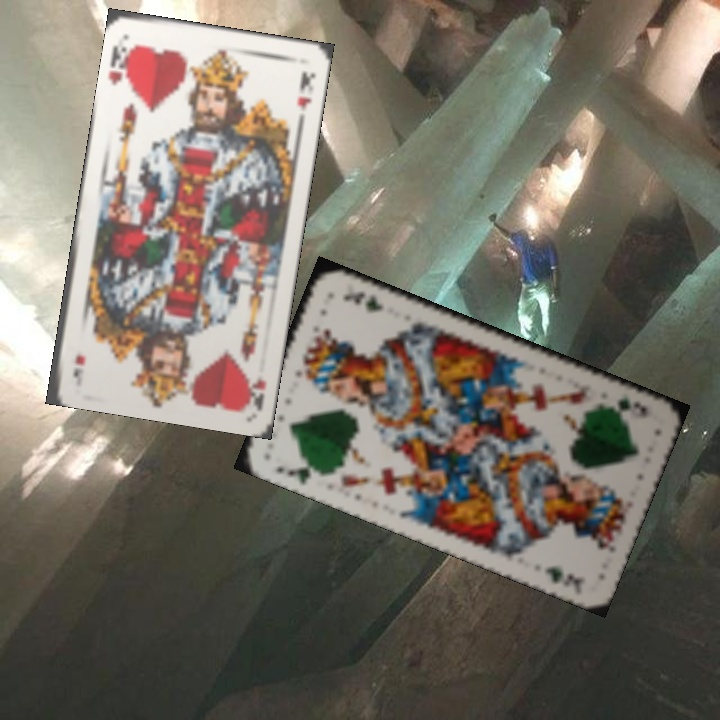GK: (271, 456, 322, 487), (599, 393, 652, 417)
HK: (104, 40, 137, 90), (240, 371, 269, 411)
